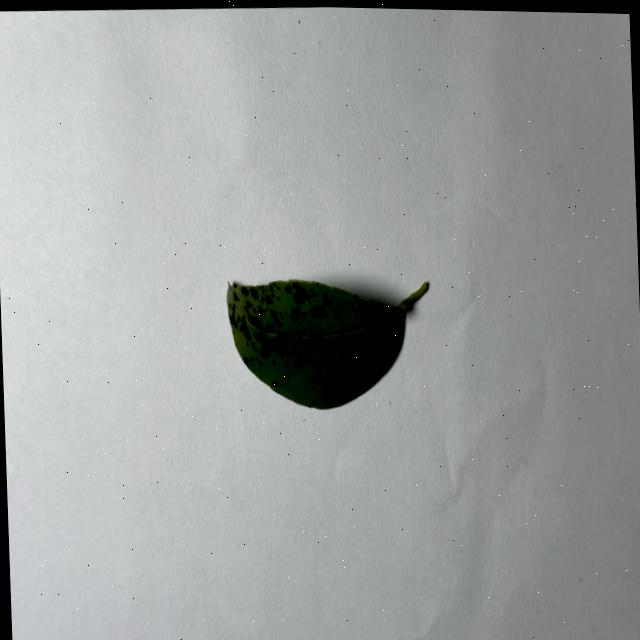sooty_mold: (226, 280, 426, 408)
